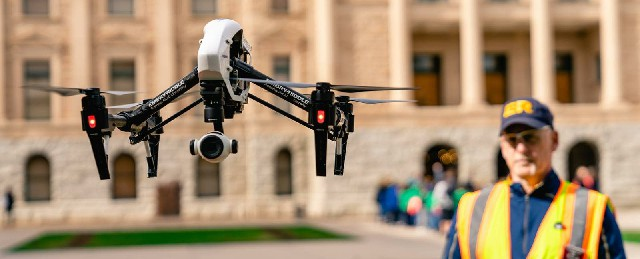maybay_khongnguoilai: (50, 19, 378, 174)
